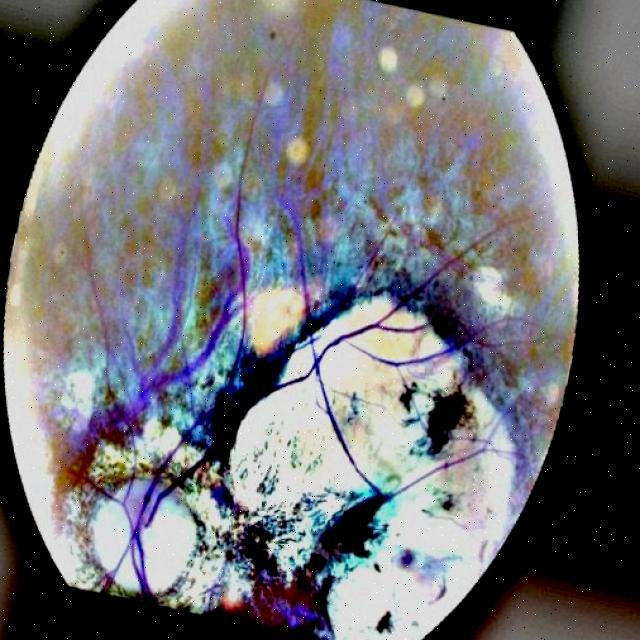Nerves: (276, 195, 514, 515), (76, 83, 266, 453), (77, 414, 212, 597), (89, 263, 115, 390)
Optic Disk: (90, 482, 196, 594)
